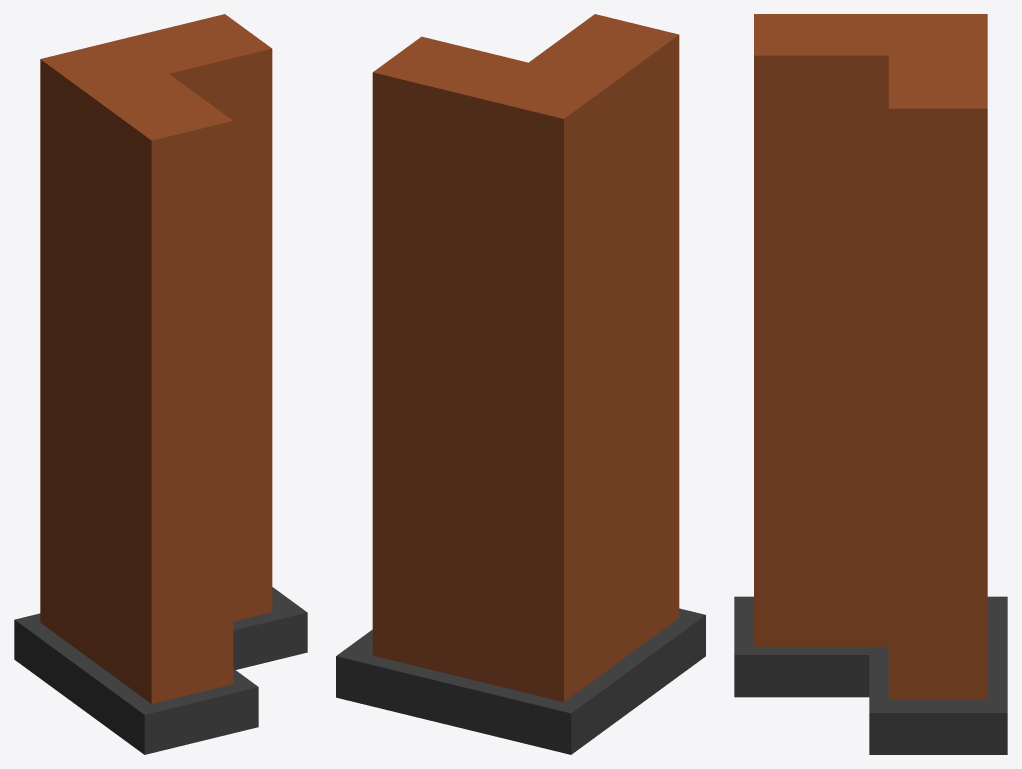
Rendered from nurk1.fbx.
The picture shows the model from 3 angles, left to right: view 1: azimuth 30°, elevation 25°; view 2: azimuth 150°, elevation 25°; view 3: azimuth 270°, elevation 25°; orthographic projection. The views are drawn at different scales.
Visible parts, largest first — view 1: Cube.003; view 2: Cube.003; view 3: Cube.003.
Part boxes in pixels (x1=…): Cube.003: x1=14, y1=14, x2=307, y2=754; Cube.003: x1=336, y1=14, x2=705, y2=754; Cube.003: x1=734, y1=14, x2=1007, y2=754.
Bounding box in the file's own units: 130 × 329 × 129.
